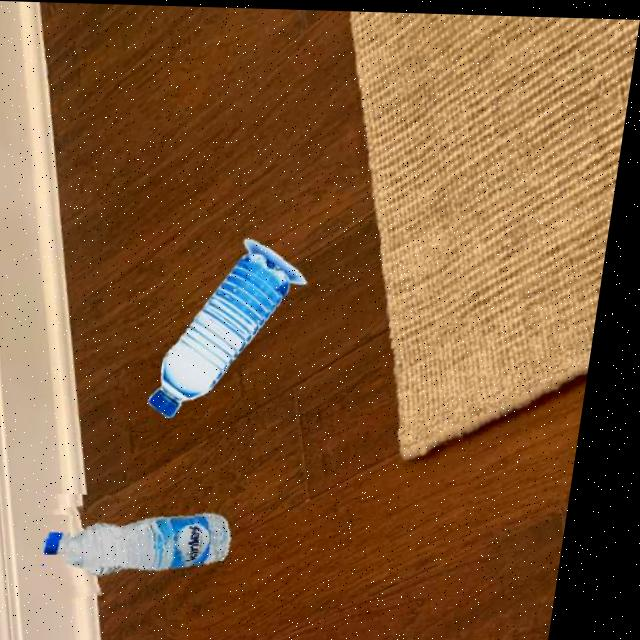plasticbottle: (36, 491, 275, 600)
plasticbottlecap: (45, 513, 89, 563)
